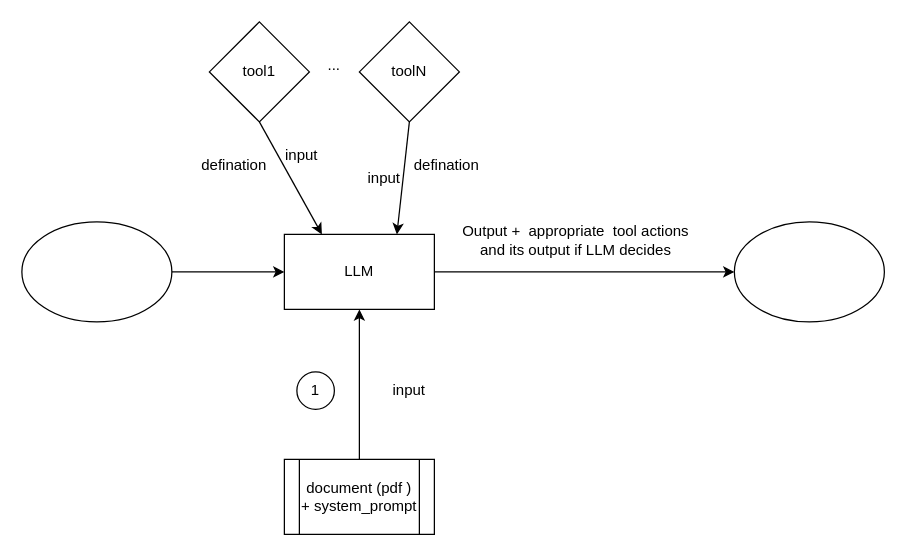
The diagram is 906 pixels wide and 556 high, and some of its shapes have lost their labels. Each missing label, with the centre of its shape:
IN: [96,271]
OUT: [808,271]
